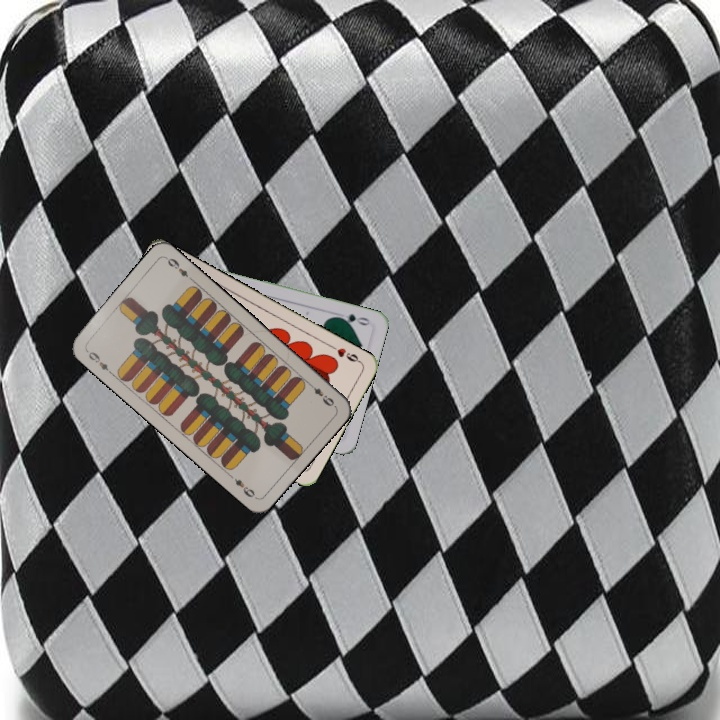E9: (82, 346, 115, 377), (304, 379, 338, 409)
GO: (332, 309, 372, 328)
H9: (326, 341, 363, 365)
